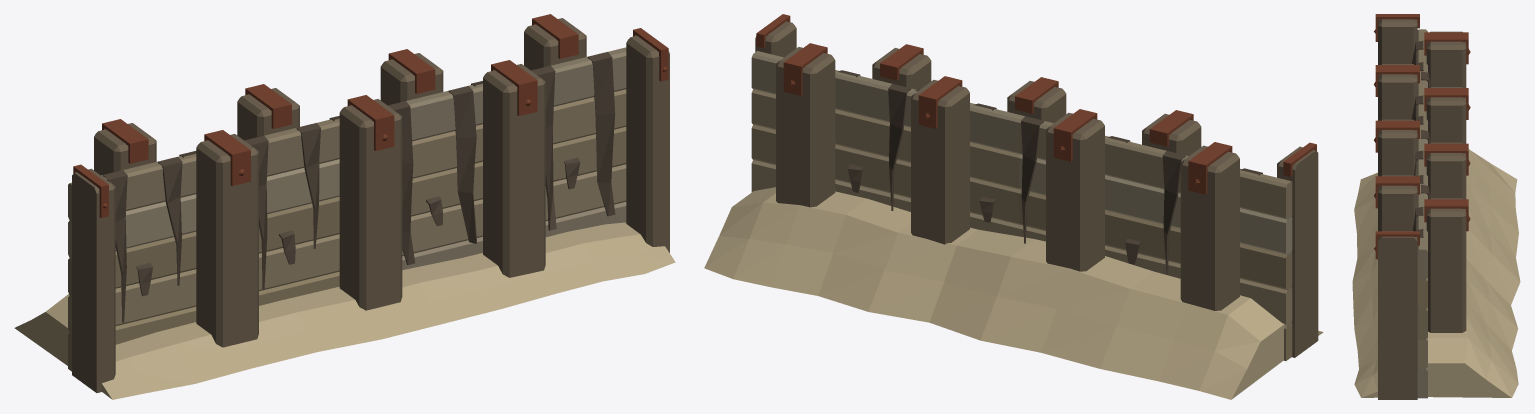
The model's file is groyne-run-971623.glb.
3 views of the same model, side by side, from view 1: azimuth 30°, elevation 25°; view 2: azimuth 150°, elevation 25°; view 3: azimuth 270°, elevation 25° (orthographic). The views are drawn at different scales.
Visible parts, largest first — view 1: groyne-body, groyne-mid-piles; view 2: groyne-body, groyne-mid-piles; view 3: groyne-body, groyne-mid-piles.
Boxes of the visible parts, box(x1,y1,x2,y2) form: groyne-body: box(14, 14, 675, 399); groyne-mid-piles: box(339, 49, 443, 310); groyne-body: box(704, 14, 1323, 399); groyne-mid-piles: box(911, 76, 1066, 244); groyne-body: box(1352, 14, 1520, 399); groyne-mid-piles: box(1374, 119, 1470, 199).
Size of the model in its own units: 4 by 1.42 by 1.28.
